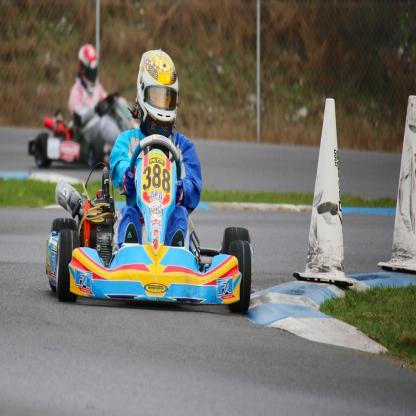Helmet: (132, 49, 176, 131), (77, 45, 99, 95)
